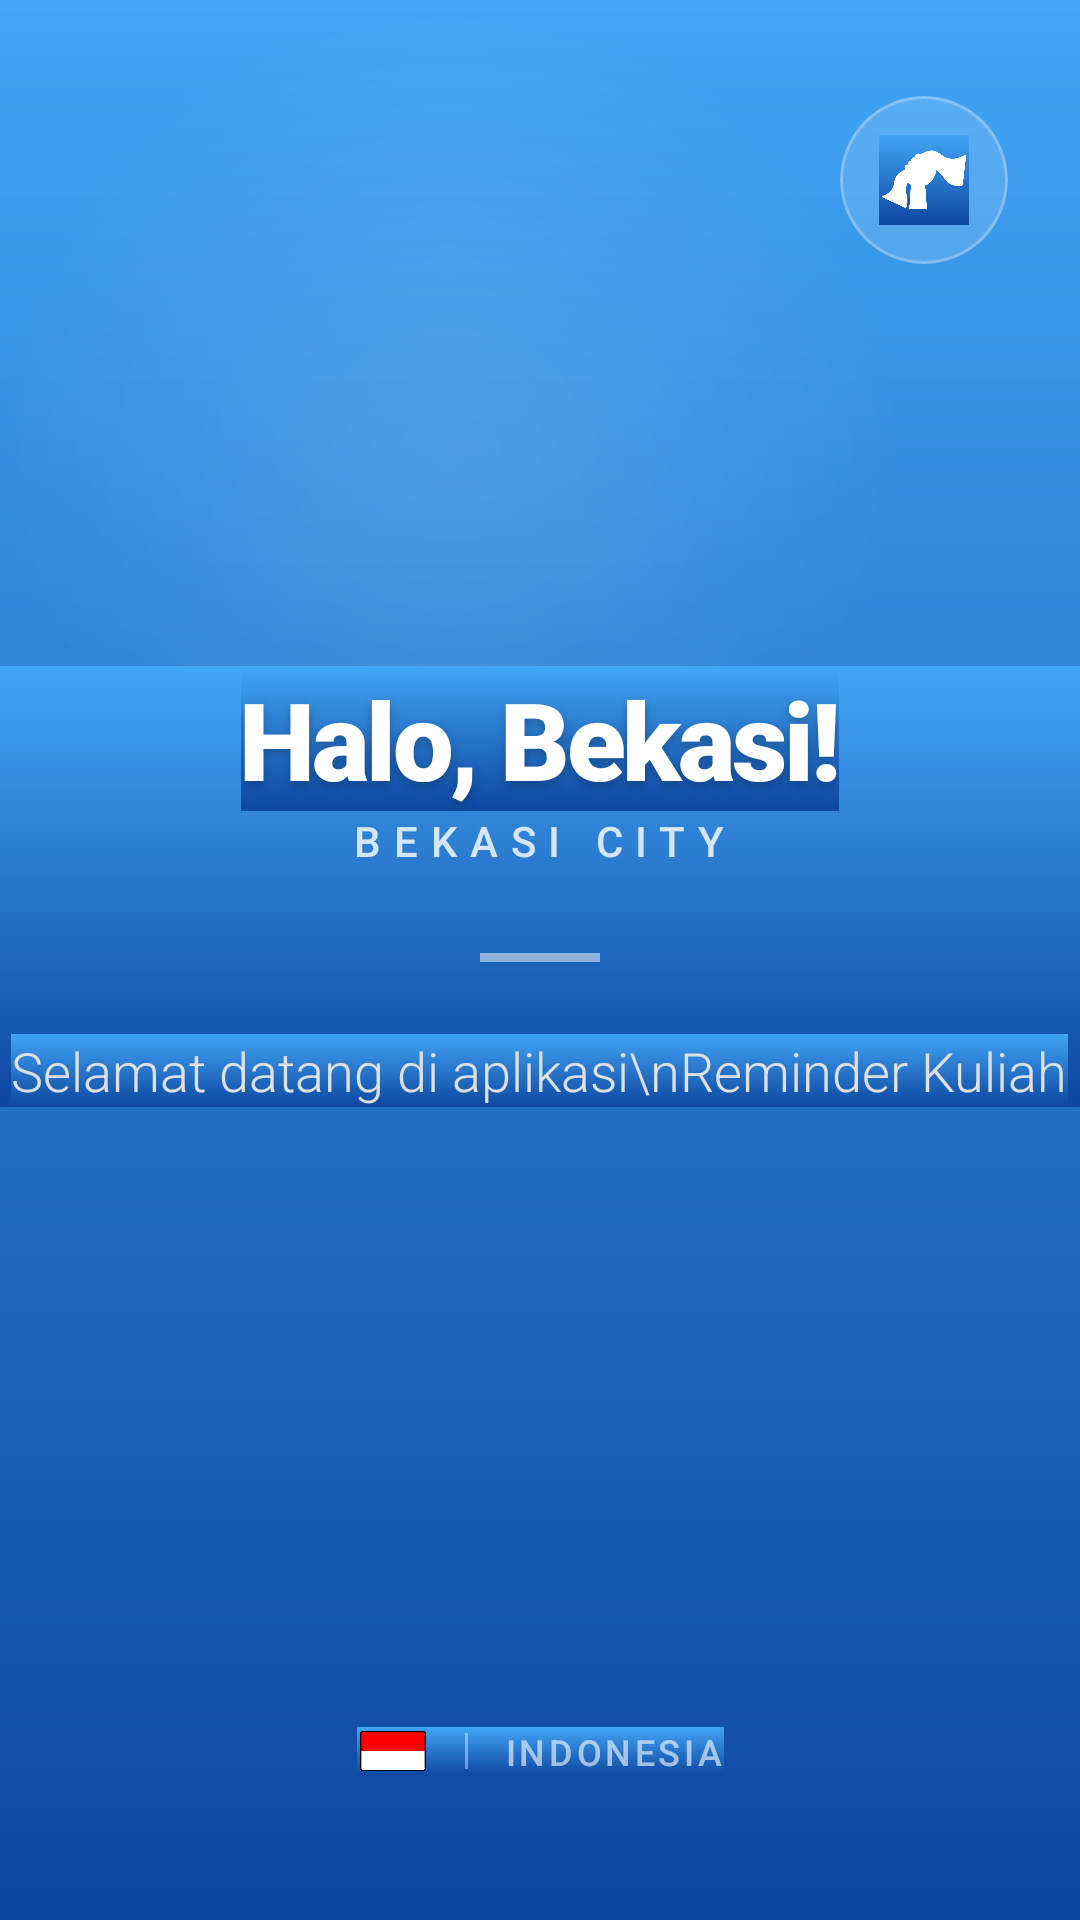

Screen size 1080px x 1920px. Icon name, then its center in pixels as point (x, y):
flag id: point (393, 1749)
